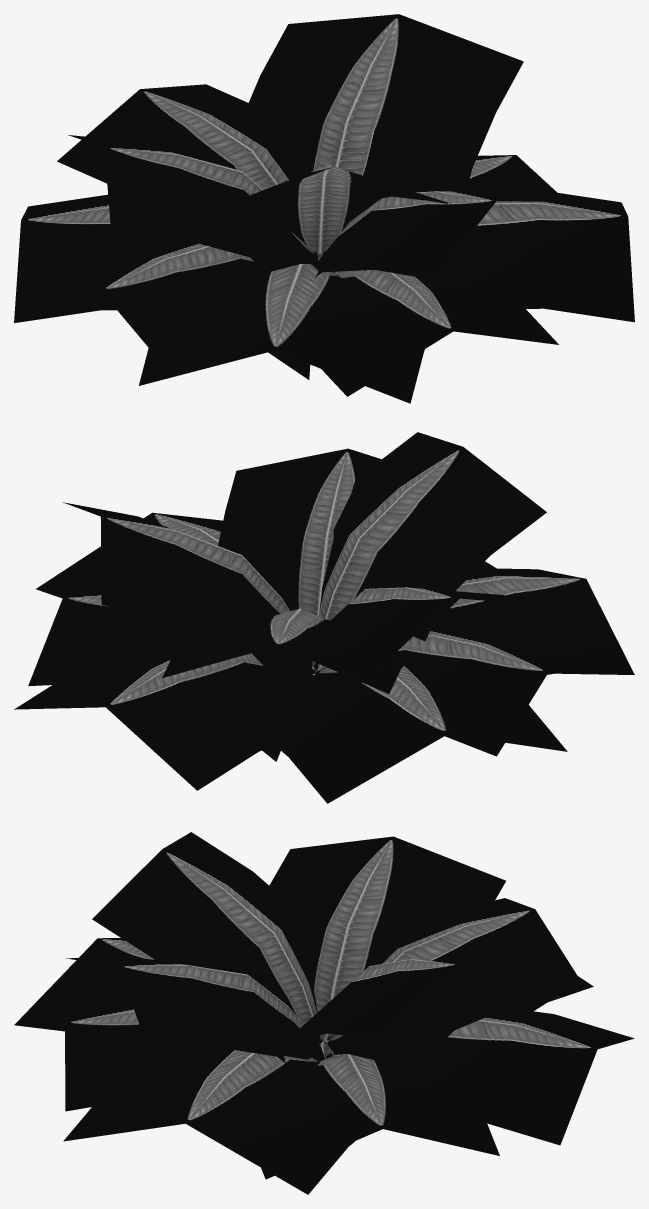
The model's file is Fern03.fbx.
3 renders of one model, top to bottom at view 1: azimuth 30°, elevation 25°; view 2: azimuth 150°, elevation 25°; view 3: azimuth 270°, elevation 25°, orthographic. The views are drawn at different scales.
Parts seen in each view (by area): view 1: Fern03_LOD0; view 2: Fern03_LOD0; view 3: Fern03_LOD0.
Boxes of the visible parts, x1,y1,x2,y2 form: Fern03_LOD0: (14,14,634,403); Fern03_LOD0: (14,432,634,803); Fern03_LOD0: (14,832,634,1194).
Size of what is drawn, in the model's own units: 1.08 by 0.4171 by 1.04.
